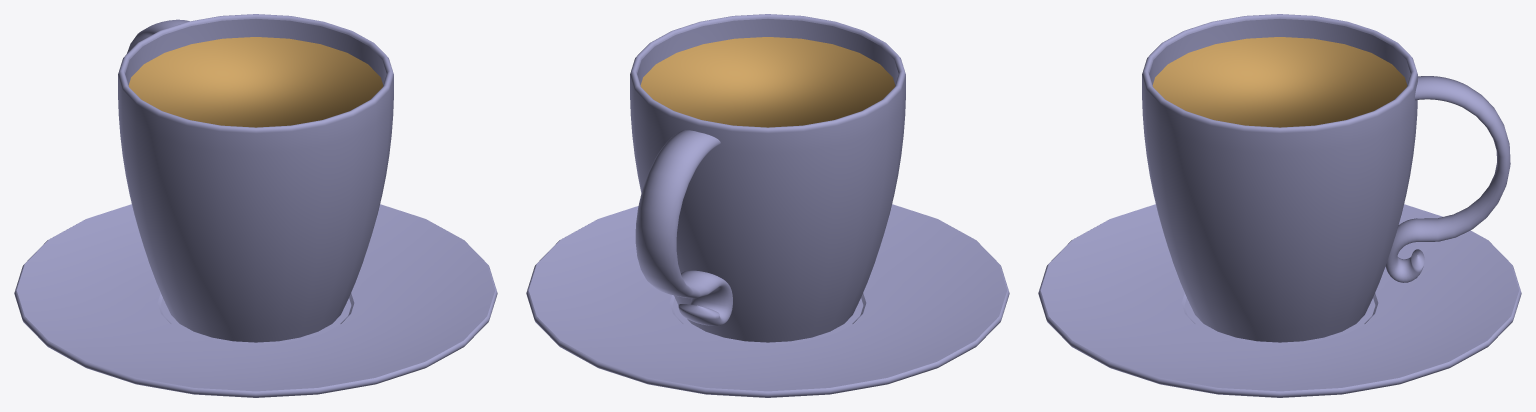
3 renders of one model, left to right at view 1: azimuth 30°, elevation 25°; view 2: azimuth 150°, elevation 25°; view 3: azimuth 270°, elevation 25°, orthographic.
Visible parts, largest first — view 1: mesh3_mesh3-geometry, mesh1_mesh1-geometry, mesh4_mesh4-geometry, mesh2_mesh2-geometry; view 2: mesh3_mesh3-geometry, mesh1_mesh1-geometry, mesh4_mesh4-geometry, mesh2_mesh2-geometry; view 3: mesh3_mesh3-geometry, mesh1_mesh1-geometry, mesh4_mesh4-geometry, mesh2_mesh2-geometry.
Part boxes in pixels (left/top/right/bottom): mesh3_mesh3-geometry: left=118, top=14, right=393, bottom=342; mesh1_mesh1-geometry: left=14, top=204, right=497, bottom=397; mesh4_mesh4-geometry: left=128, top=37, right=383, bottom=127; mesh2_mesh2-geometry: left=127, top=19, right=189, bottom=53; mesh3_mesh3-geometry: left=630, top=14, right=905, bottom=342; mesh1_mesh1-geometry: left=526, top=204, right=1009, bottom=397; mesh4_mesh4-geometry: left=640, top=37, right=895, bottom=127; mesh2_mesh2-geometry: left=635, top=130, right=732, bottom=325; mesh3_mesh3-geometry: left=1142, top=14, right=1417, bottom=342; mesh1_mesh1-geometry: left=1038, top=204, right=1521, bottom=397; mesh4_mesh4-geometry: left=1152, top=37, right=1407, bottom=127; mesh2_mesh2-geometry: left=1385, top=76, right=1510, bottom=282.
Size of the model in its own units: 0.6559 by 0.3738 by 0.6559.
